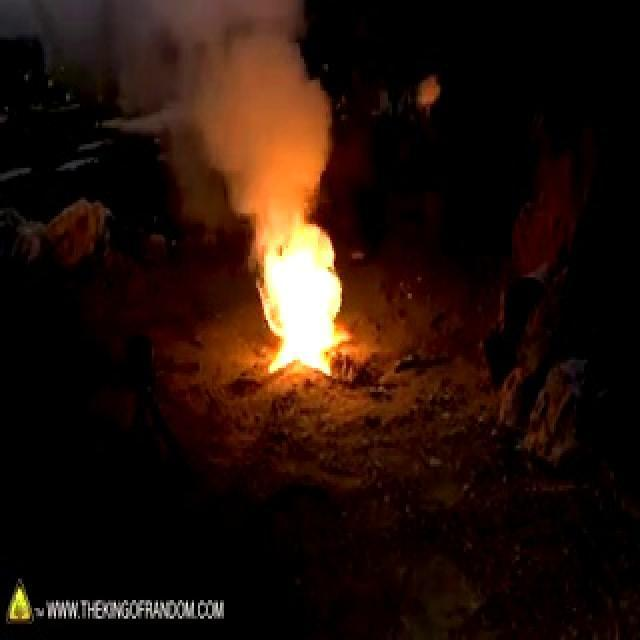Fire: (265, 212, 348, 382)
Smoke: (68, 5, 342, 192)
